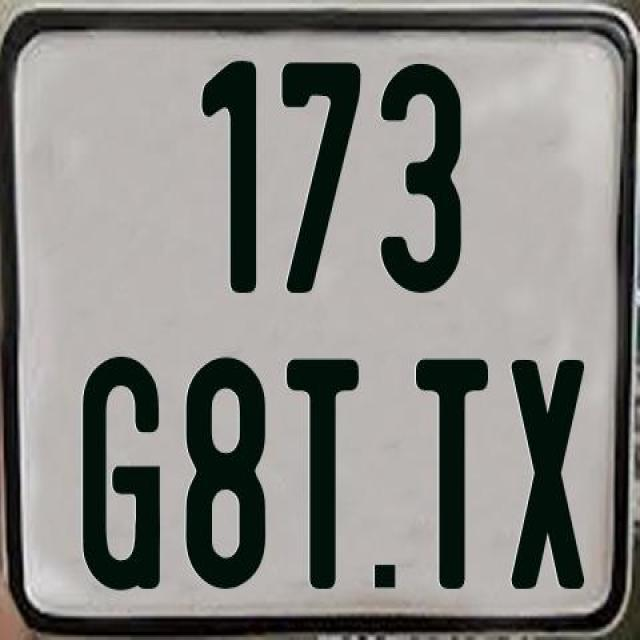1: (197, 59, 260, 294)
3: (382, 59, 466, 290)
7: (278, 62, 358, 302)
8: (183, 354, 270, 586)
G: (79, 354, 157, 588)
T: (282, 356, 360, 594), (412, 357, 489, 587)
X: (510, 358, 586, 592)
